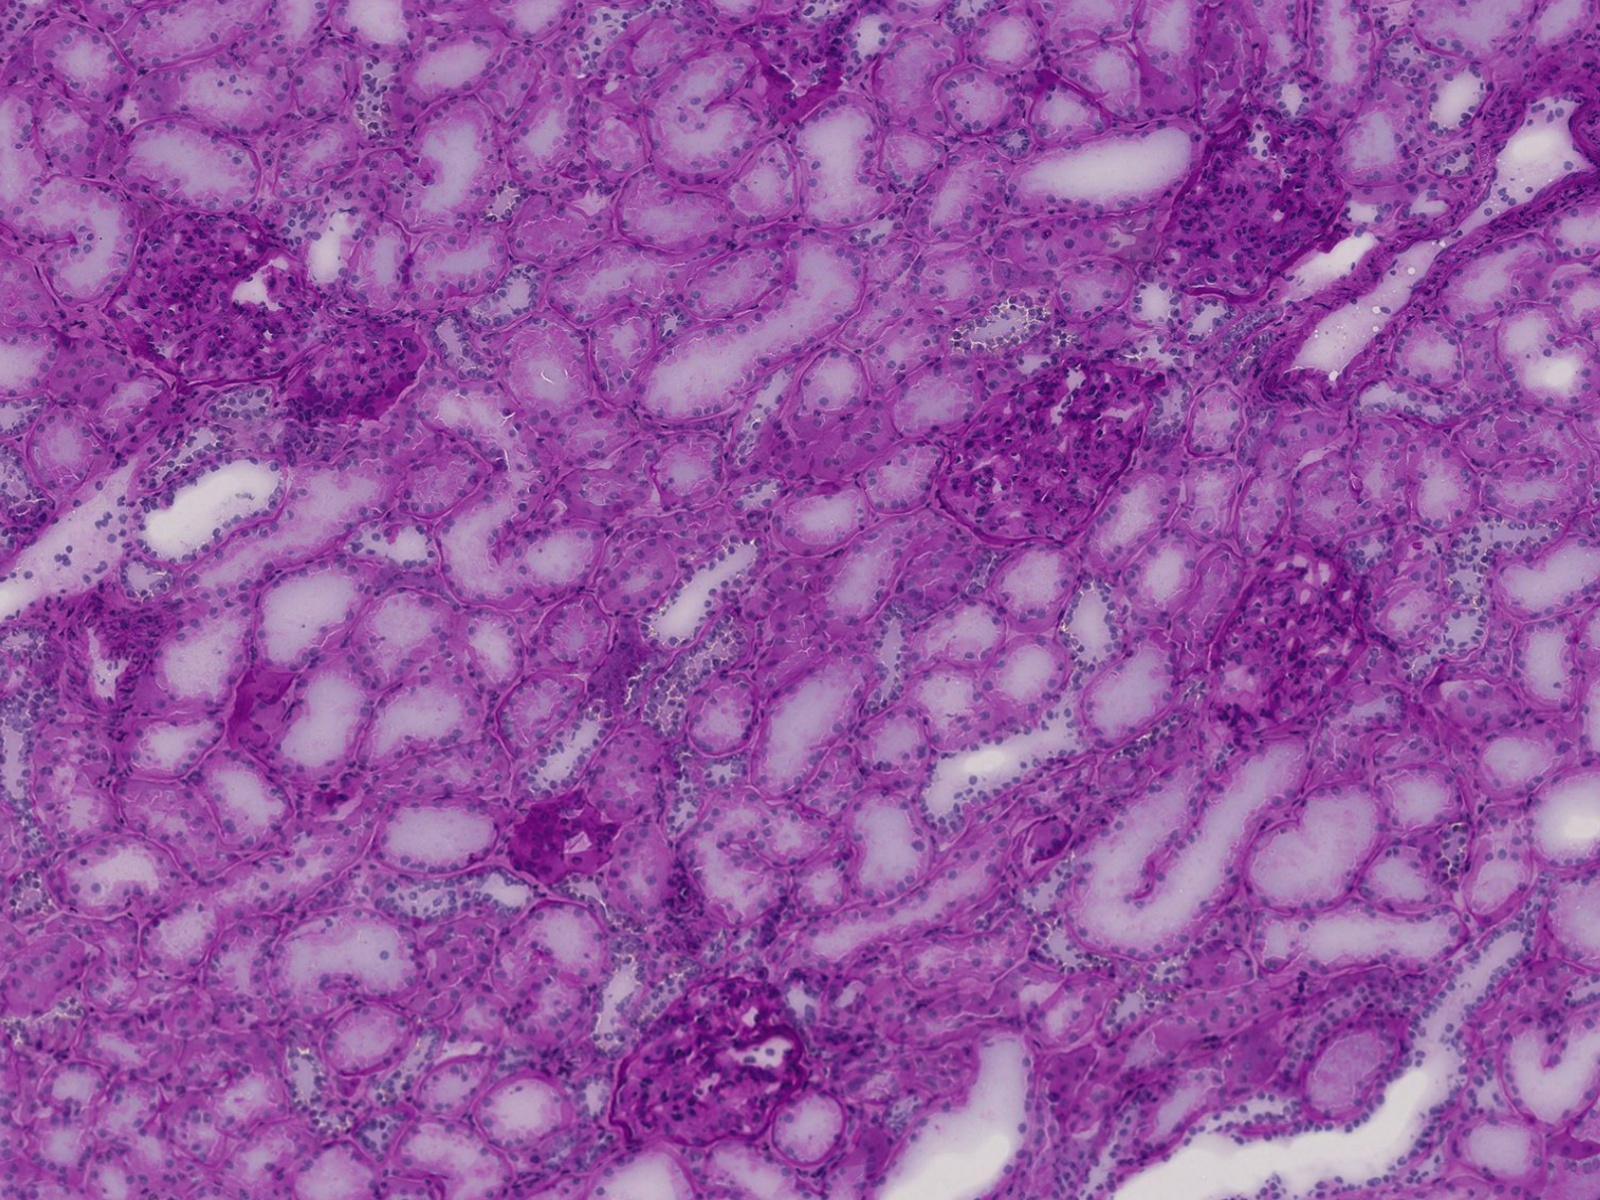Glomeruli: (923, 355, 1160, 563), (1151, 102, 1362, 296), (603, 988, 815, 1158), (107, 208, 304, 384), (1204, 545, 1364, 737), (280, 308, 436, 432)
